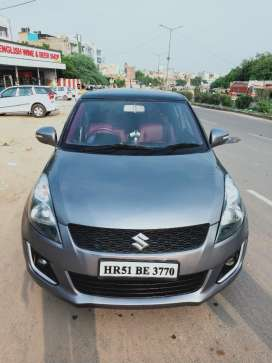license_plate: (100, 257, 183, 283)
